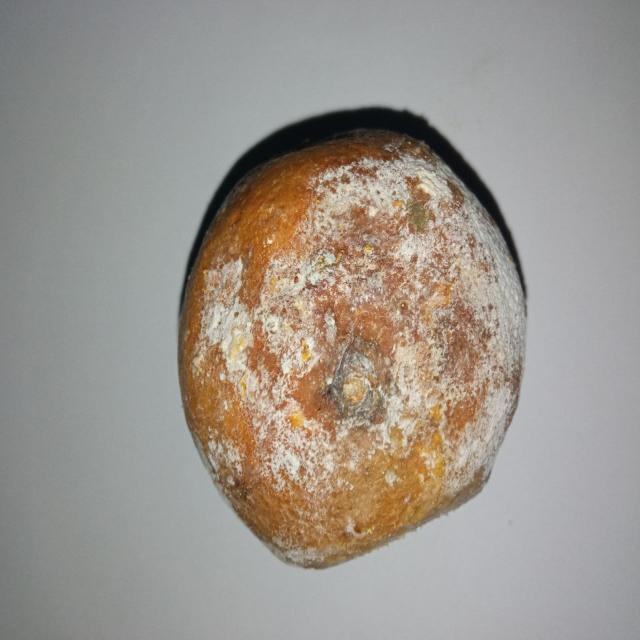rotten_orange: (176, 131, 526, 568)
